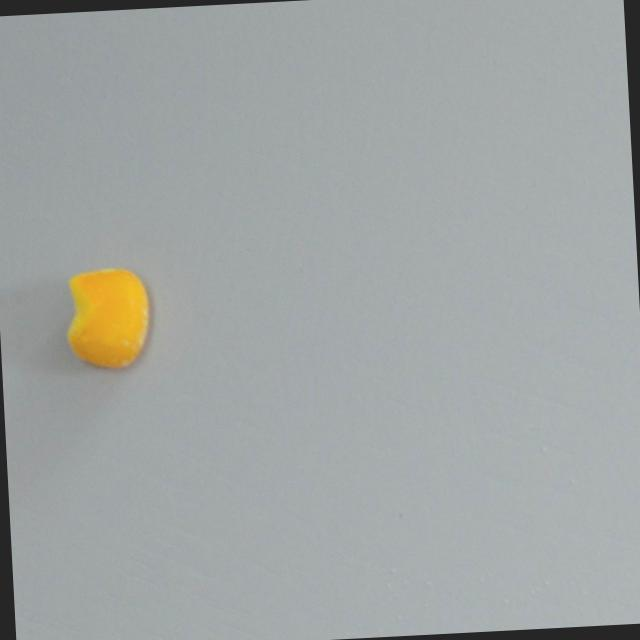dañado: (60, 261, 158, 376)
